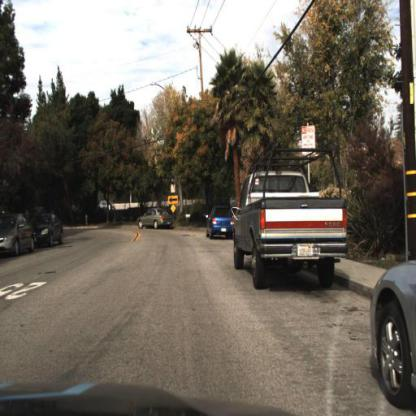car: (230, 137, 351, 294), (370, 253, 416, 410), (2, 213, 36, 260), (33, 213, 67, 251), (205, 203, 239, 240), (138, 205, 175, 231)
